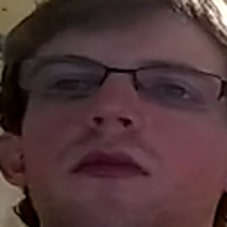drowsy: (36, 48, 222, 194)
